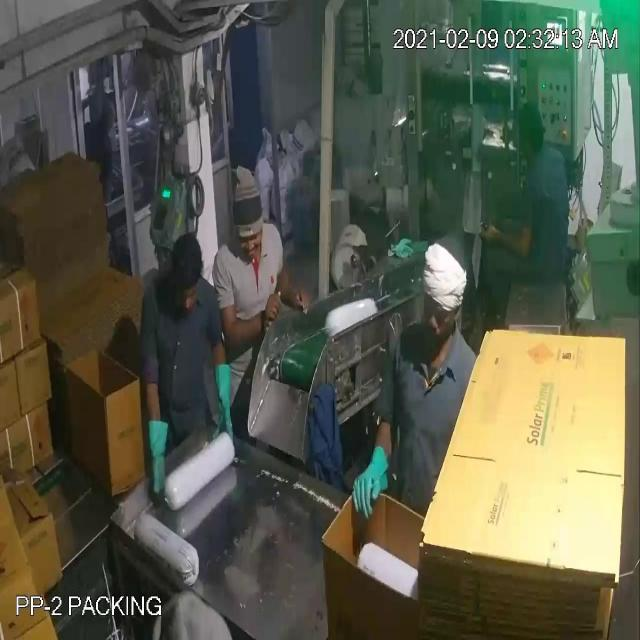Gloves: (46, 60, 510, 488)
